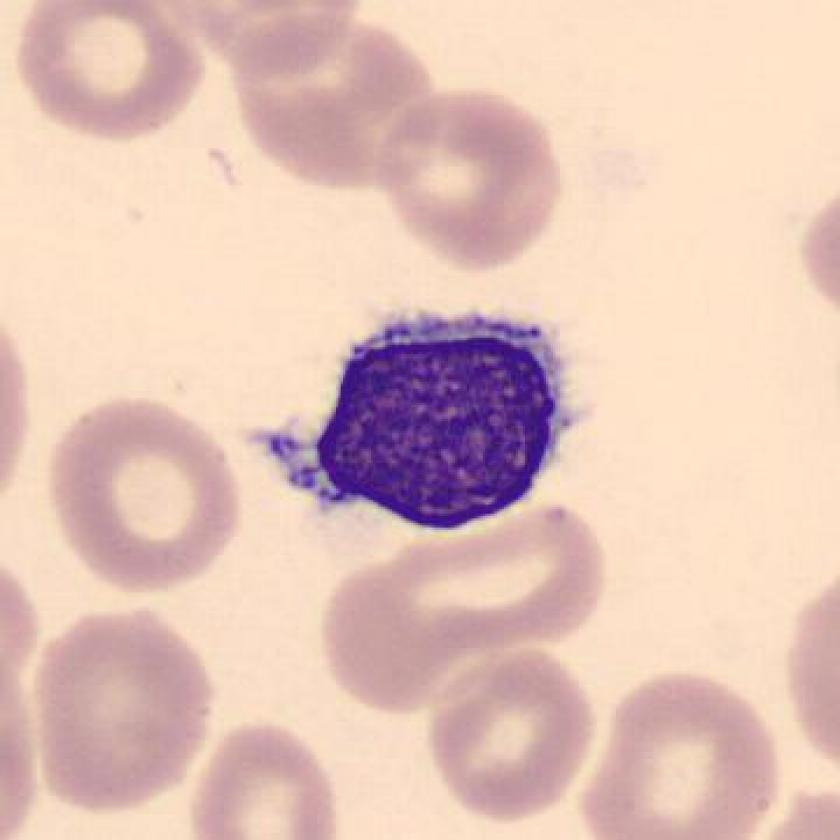lymphocyte: (244, 293, 587, 563)
